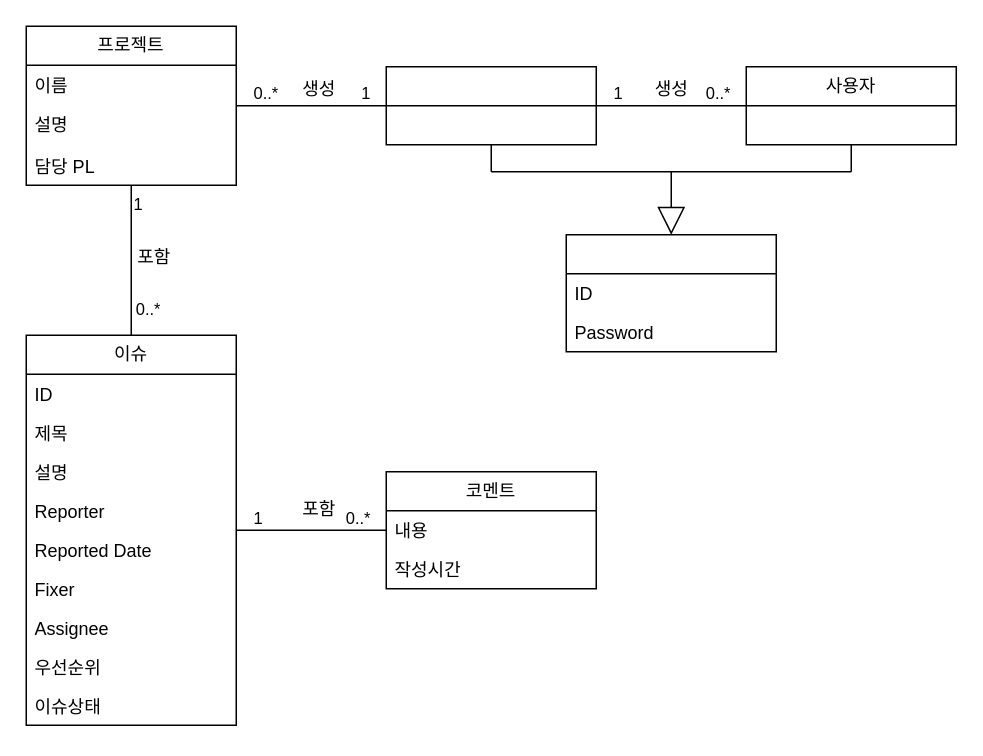
Some shapes in this 983 by 756 pixel diagram are drawn without their labels. The shapes that lost their labels are listed below. From the top down, each one's box as (x1, y1, x2, y2) in pixels, then its label:
(385, 65, 596, 145): 관리자
(565, 233, 776, 352): 계정
